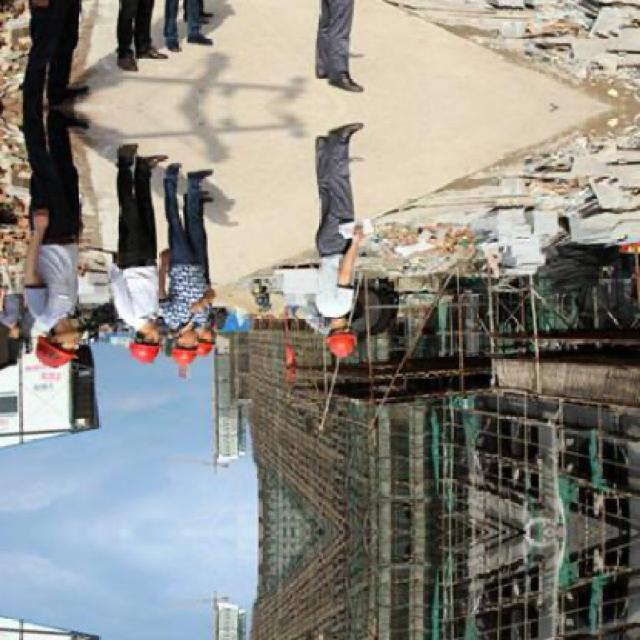con casco: (313, 305, 395, 370), (123, 298, 186, 366), (42, 298, 90, 366), (168, 317, 226, 370)
